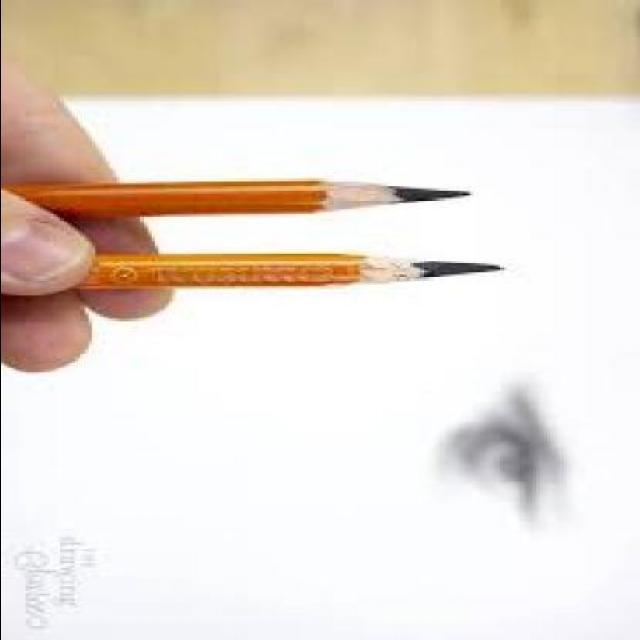pencil: (306, 240, 512, 306), (280, 163, 483, 226)
